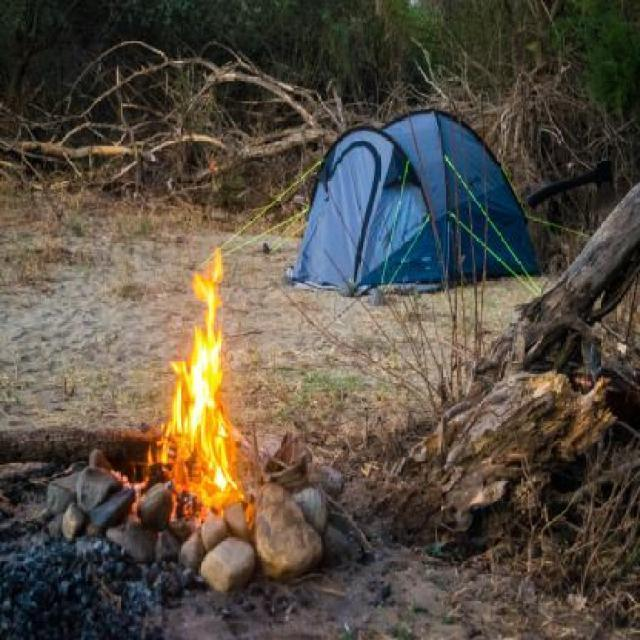fire: (171, 283, 237, 501)
